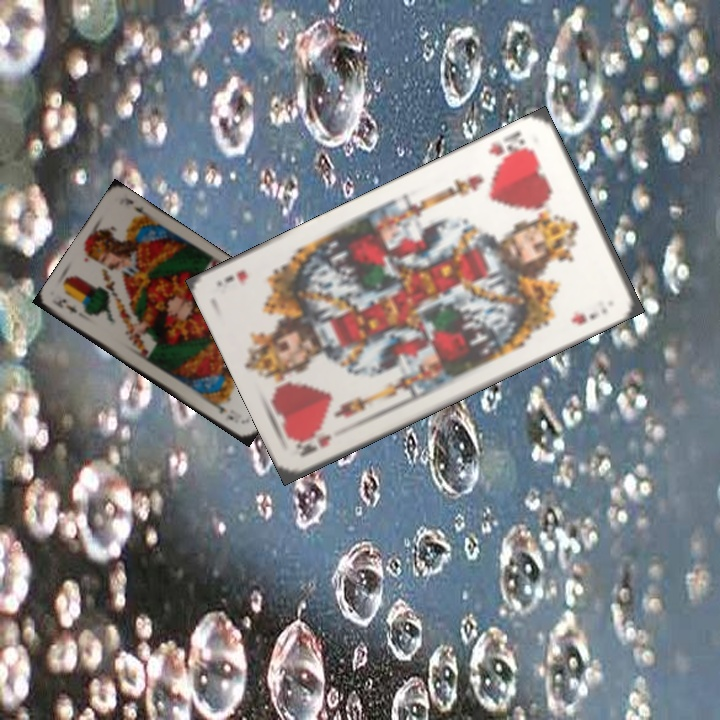EK: (51, 295, 80, 316)
HK: (484, 127, 536, 168), (292, 430, 333, 460)
